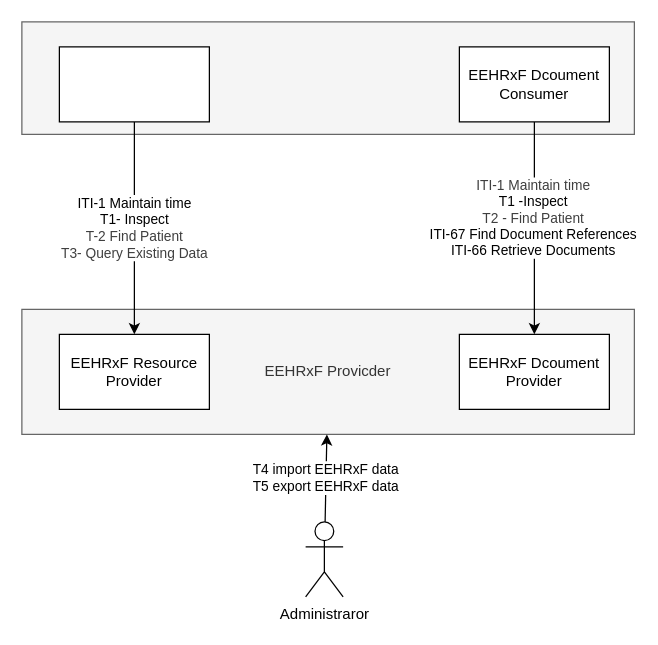
The diagram is 658 pixels wide and 645 high, and some of its shapes have lost their labels. The shapes that lost their labels are listed below. From the top down, each one's box as (x1, y1, x2, y2) in pixels, then its label:
(58, 46, 209, 122): EEHRxF Resource Consumer
(21, 21, 634, 134): EEHRxF Consumer
